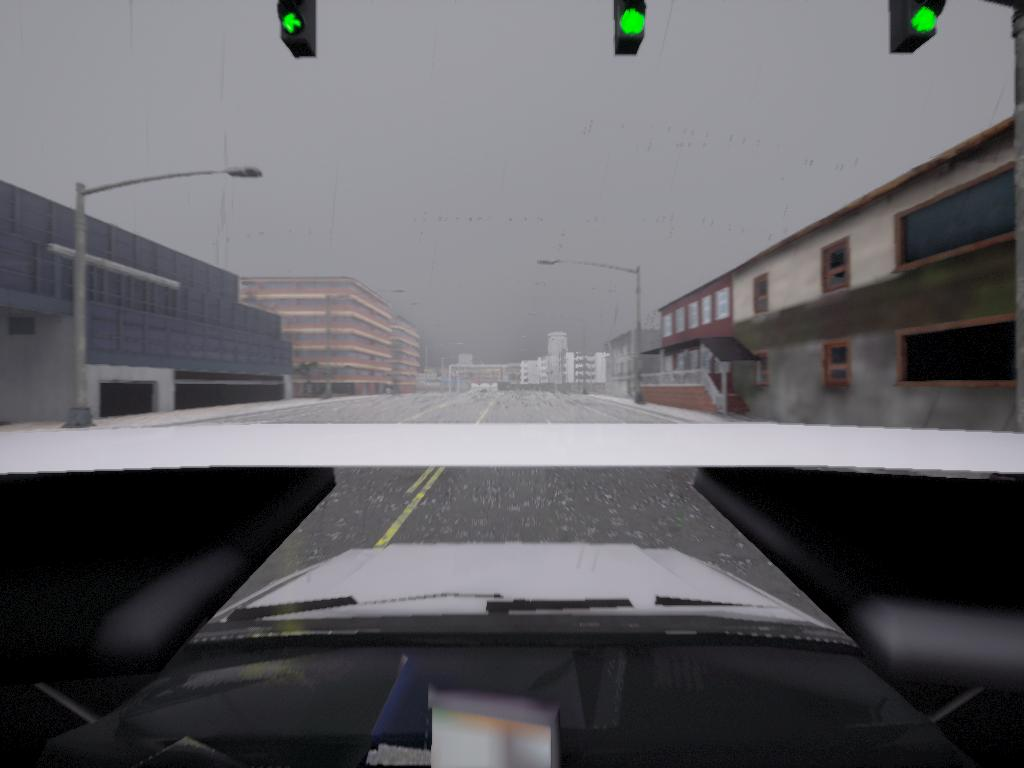traffic_light: (890, 1, 952, 55), (280, 1, 320, 58), (615, 1, 654, 56)
